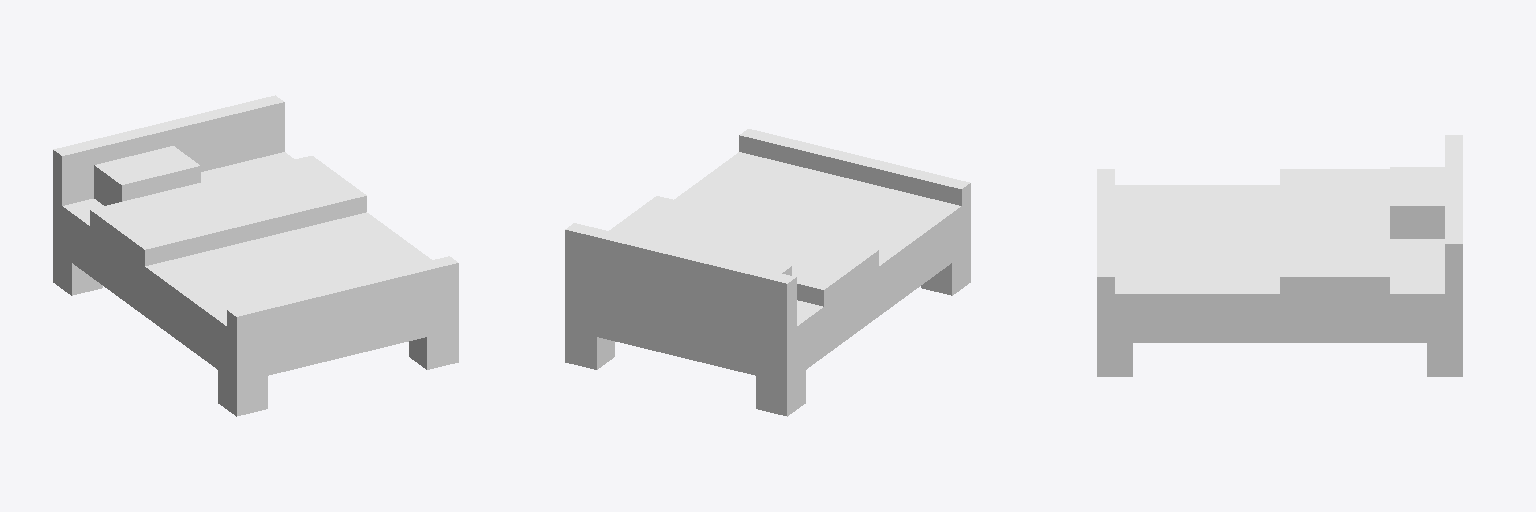
File: Bed01.obj
3 views of the same model, side by side, from view 1: azimuth 30°, elevation 25°; view 2: azimuth 150°, elevation 25°; view 3: azimuth 270°, elevation 25° (orthographic).
Visible parts, largest first — view 1: object 1; view 2: object 1; view 3: object 1.
Part boxes in pixels (bbox=[...]): object 1: bbox=[53, 95, 458, 416]; object 1: bbox=[565, 129, 970, 416]; object 1: bbox=[1097, 135, 1462, 376].
Bounding box in the file's own units: 1.4 × 0.8 × 2.